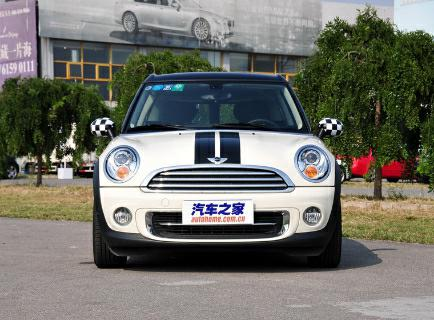MINI CLUBMAN: (90, 69, 344, 273)
